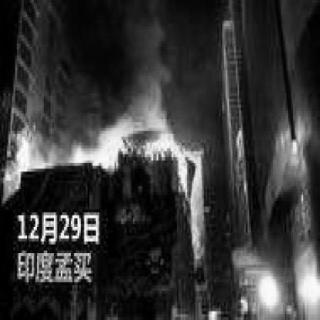Fire: (20, 101, 198, 193)
other: (226, 218, 313, 310)
